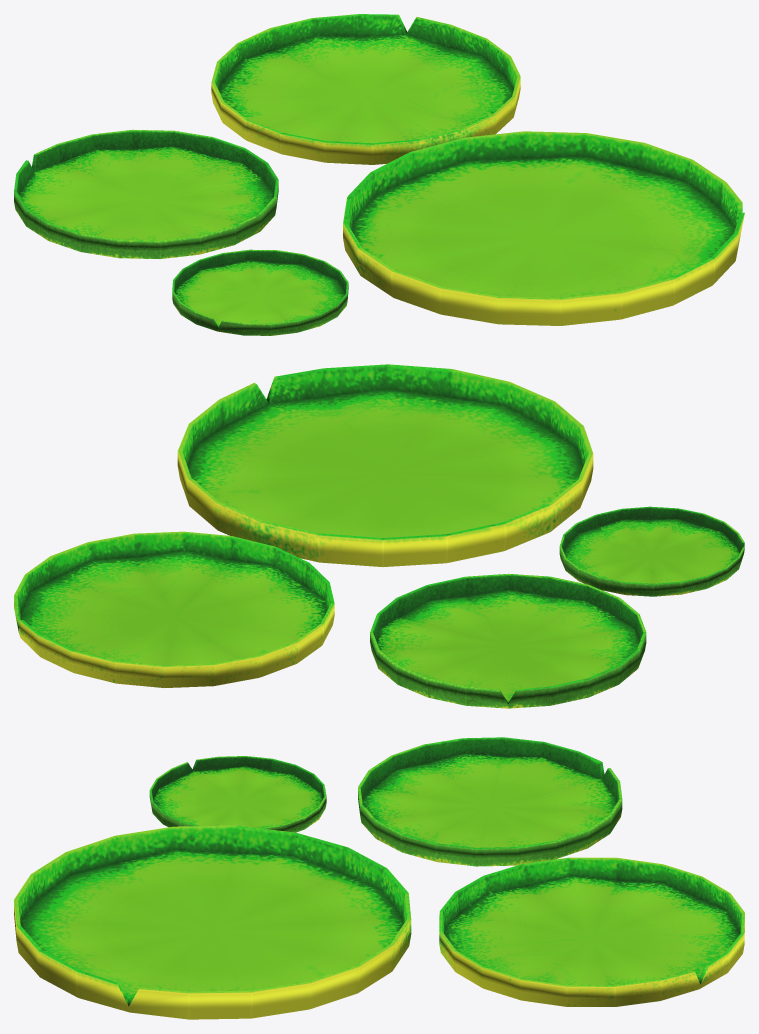
Rendered from lilypad.fbx.
3 renders of one model, top to bottom at view 1: azimuth 30°, elevation 25°; view 2: azimuth 150°, elevation 25°; view 3: azimuth 270°, elevation 25°, orthographic. The views are drawn at different scales.
Parts seen in each view (by area): view 1: GiantWaterLilies:GiantWaterLilies_mesh; view 2: GiantWaterLilies:GiantWaterLilies_mesh; view 3: GiantWaterLilies:GiantWaterLilies_mesh.
Boxes of the visible parts, left/top/right/bottom form: GiantWaterLilies:GiantWaterLilies_mesh: left=14, top=14, right=744, bottom=335; GiantWaterLilies:GiantWaterLilies_mesh: left=14, top=364, right=744, bottom=708; GiantWaterLilies:GiantWaterLilies_mesh: left=14, top=737, right=744, bottom=1019.
Bounding box in the file's own units: 18.53 × 0.8835 × 21.59.
Materials: 1 (1 with a texture image).
